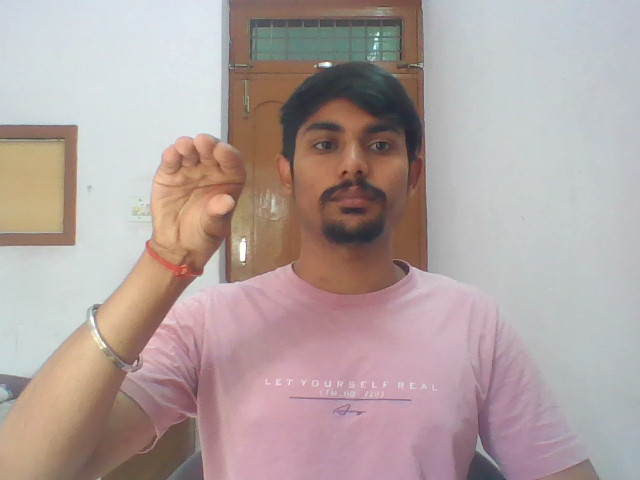No: (135, 121, 254, 250)
